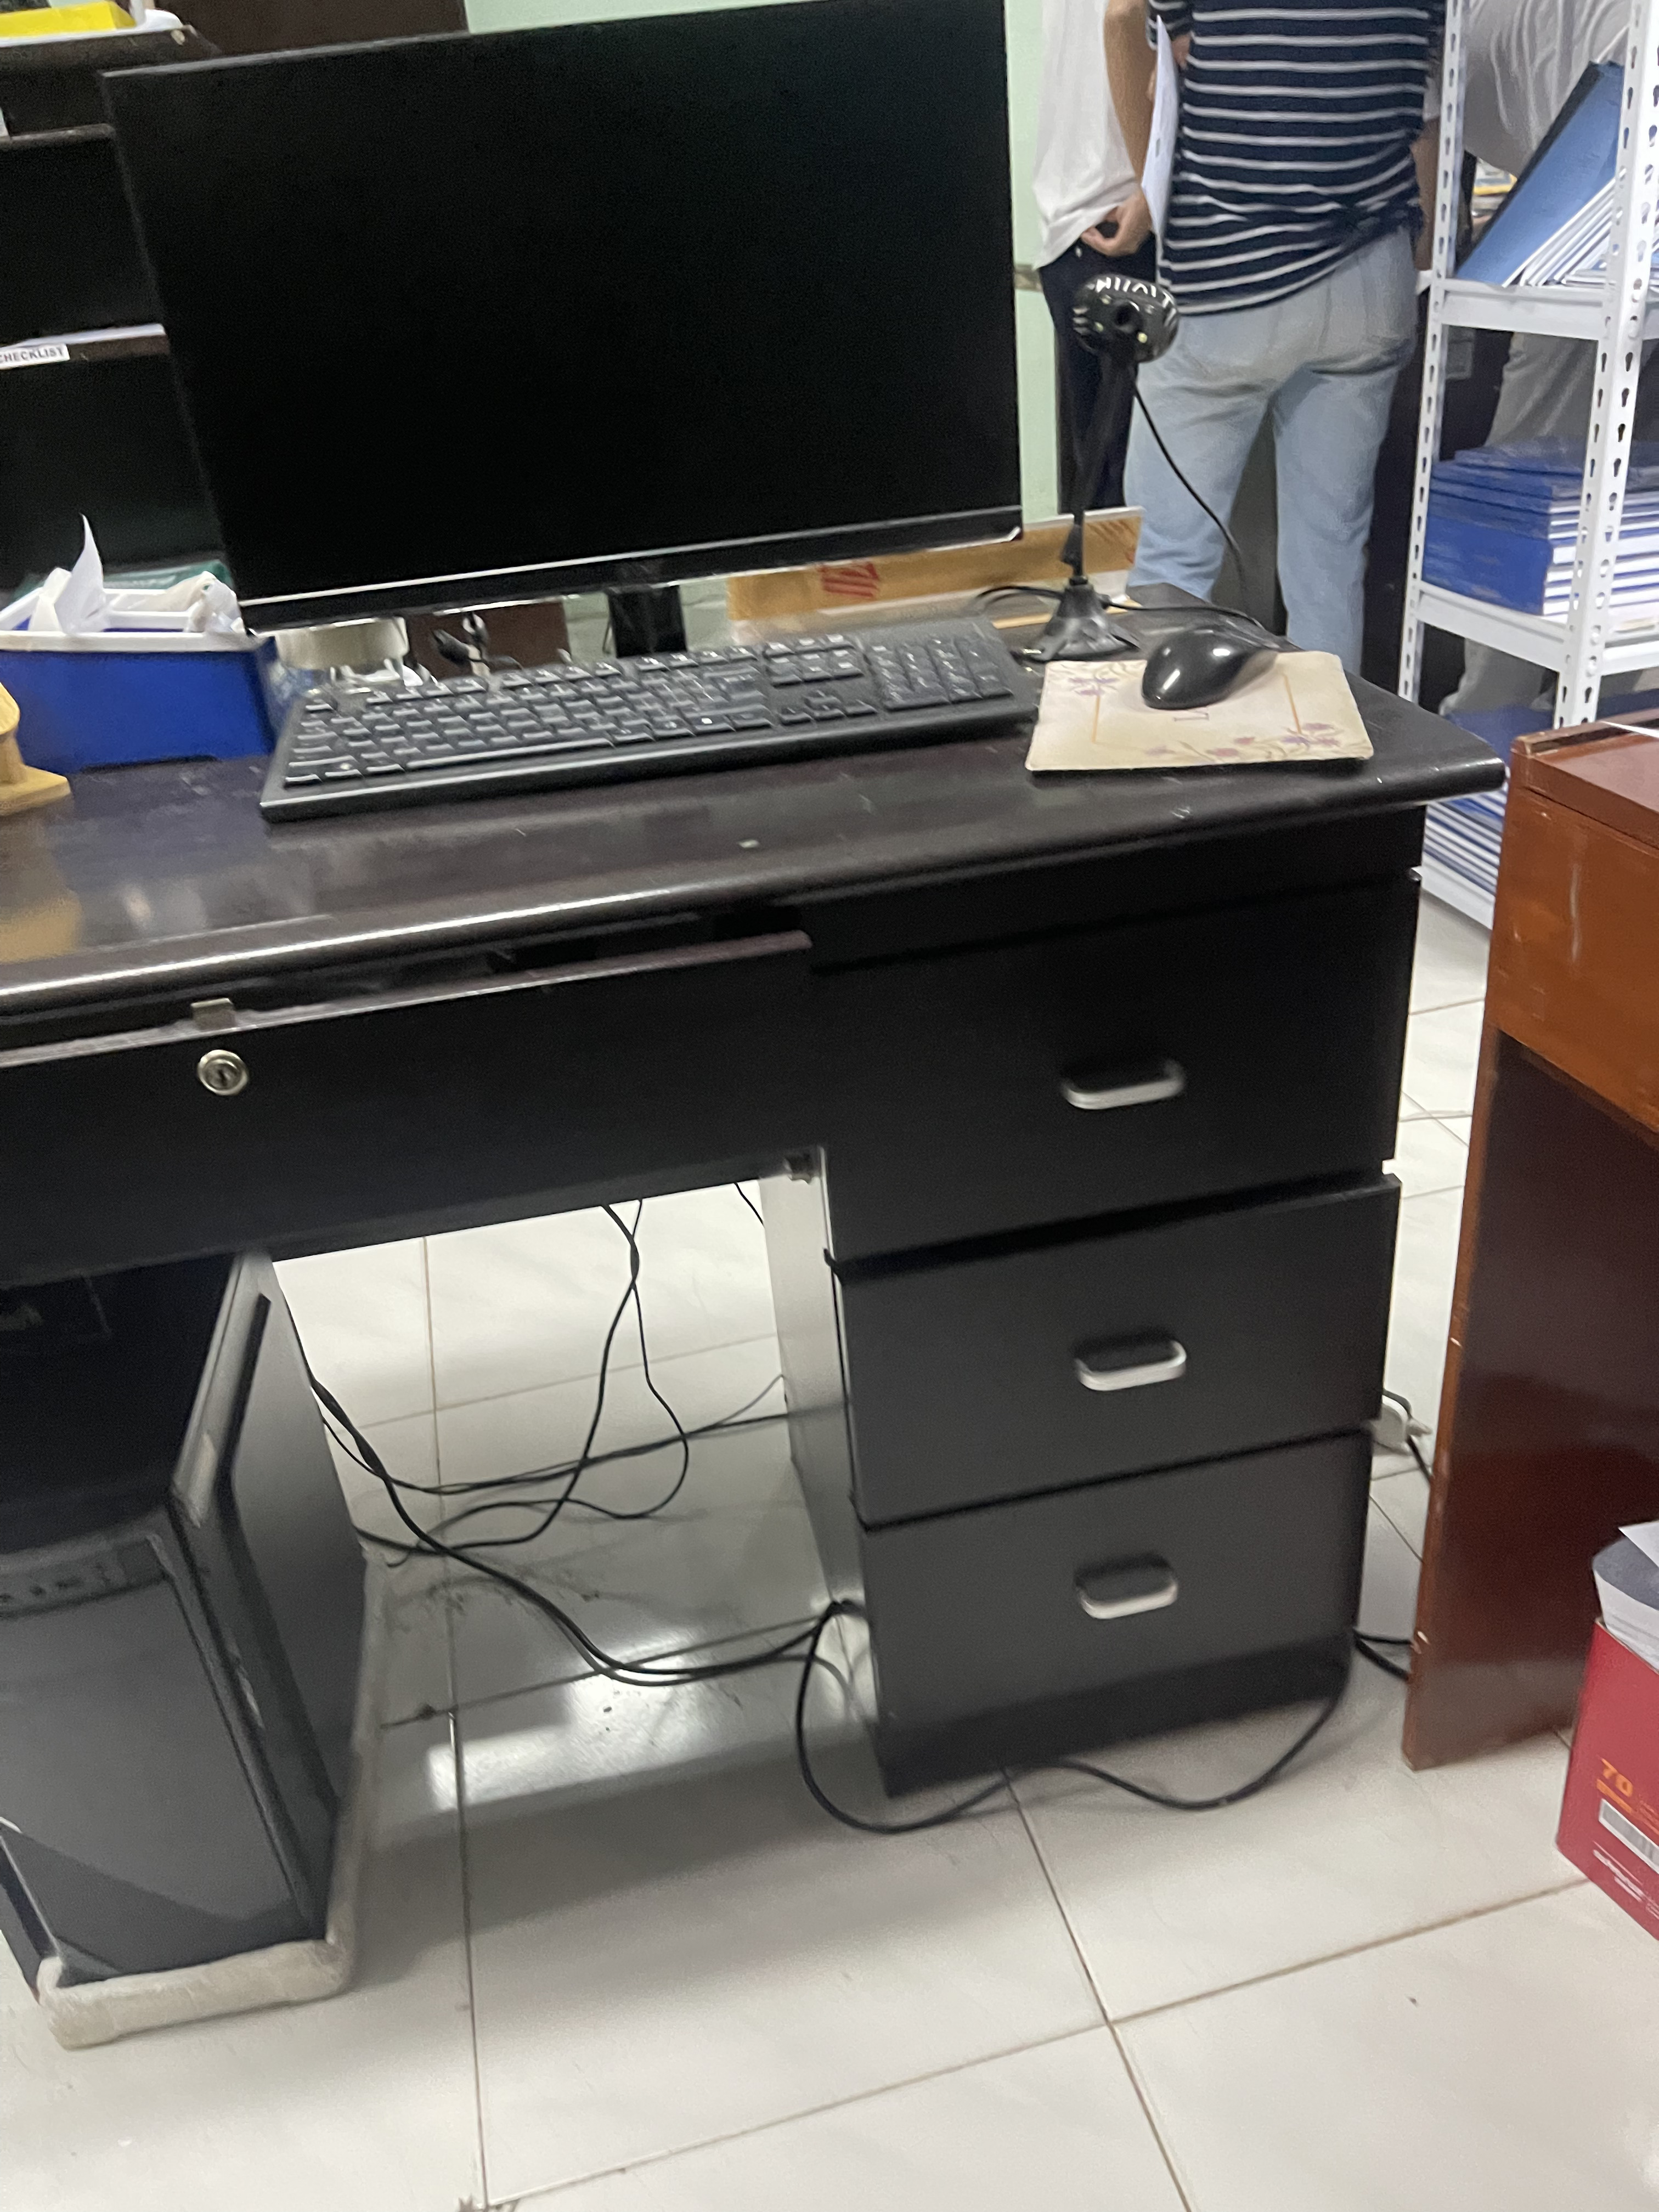table1: (17, 604, 1513, 2036)
